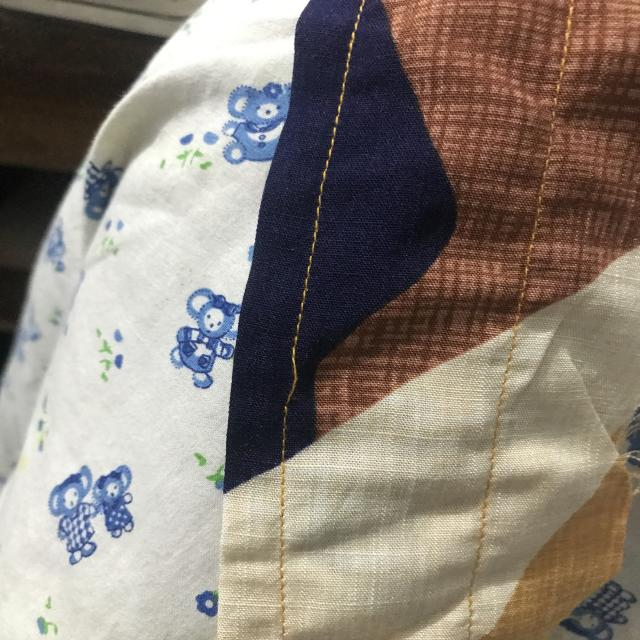good: (294, 173, 334, 250)
skip: (278, 324, 314, 420)
